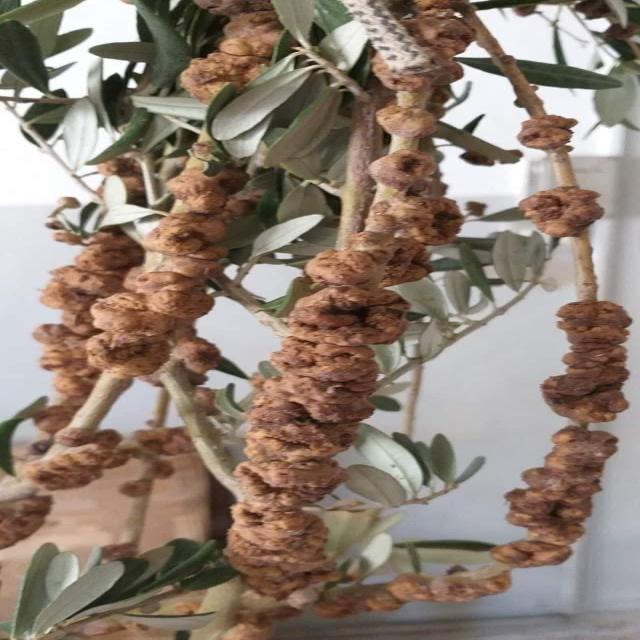Tuberculosis: (228, 251, 403, 599), (32, 232, 141, 418), (491, 426, 617, 567), (0, 430, 130, 550), (86, 267, 225, 378), (540, 300, 631, 426), (143, 167, 249, 269), (180, 0, 281, 103), (320, 570, 511, 617), (390, 0, 473, 87), (373, 196, 463, 246), (519, 186, 603, 238), (370, 149, 447, 197), (377, 102, 440, 141), (517, 115, 577, 154)
